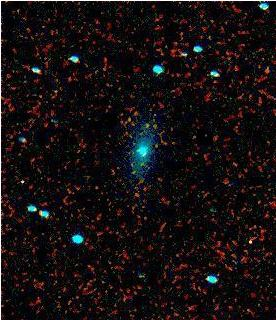star: (132, 111, 162, 141)
